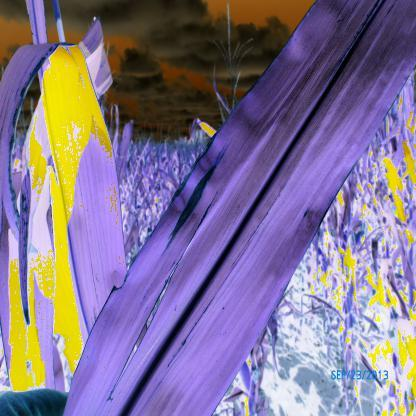Corn leaf blight: (69, 8, 406, 416), (1, 38, 135, 390)
